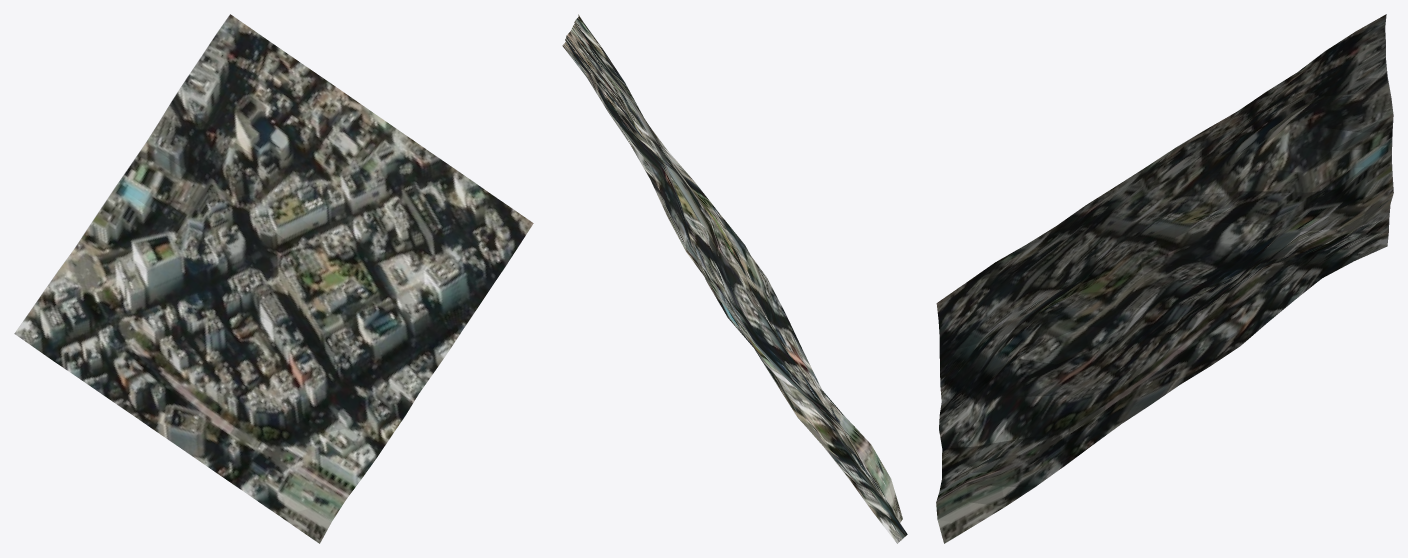
The picture shows the model from 3 angles, left to right: view 1: azimuth 30°, elevation 25°; view 2: azimuth 150°, elevation 25°; view 3: azimuth 270°, elevation 25°; orthographic projection. The views are drawn at different scales.
Bounding box in the file's own units: 539 × 570 × 411.
1 material, 1 textured.
